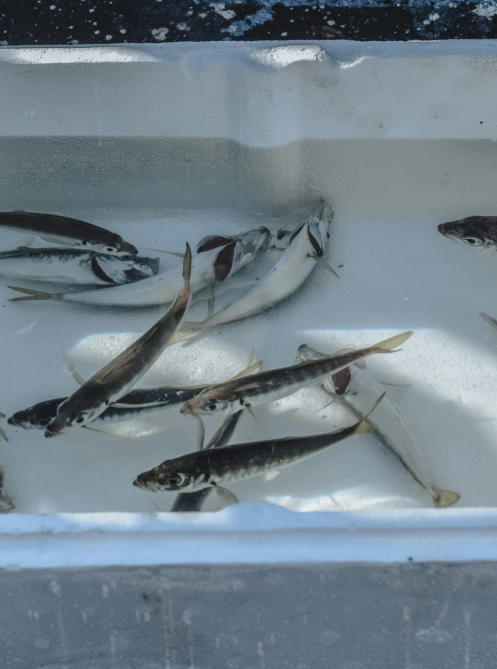fishLarge: (40, 240, 195, 443), (130, 391, 389, 505), (160, 198, 340, 349), (296, 342, 460, 507), (178, 326, 415, 437), (6, 225, 276, 320), (6, 348, 265, 441), (169, 342, 260, 513), (0, 206, 140, 263)
